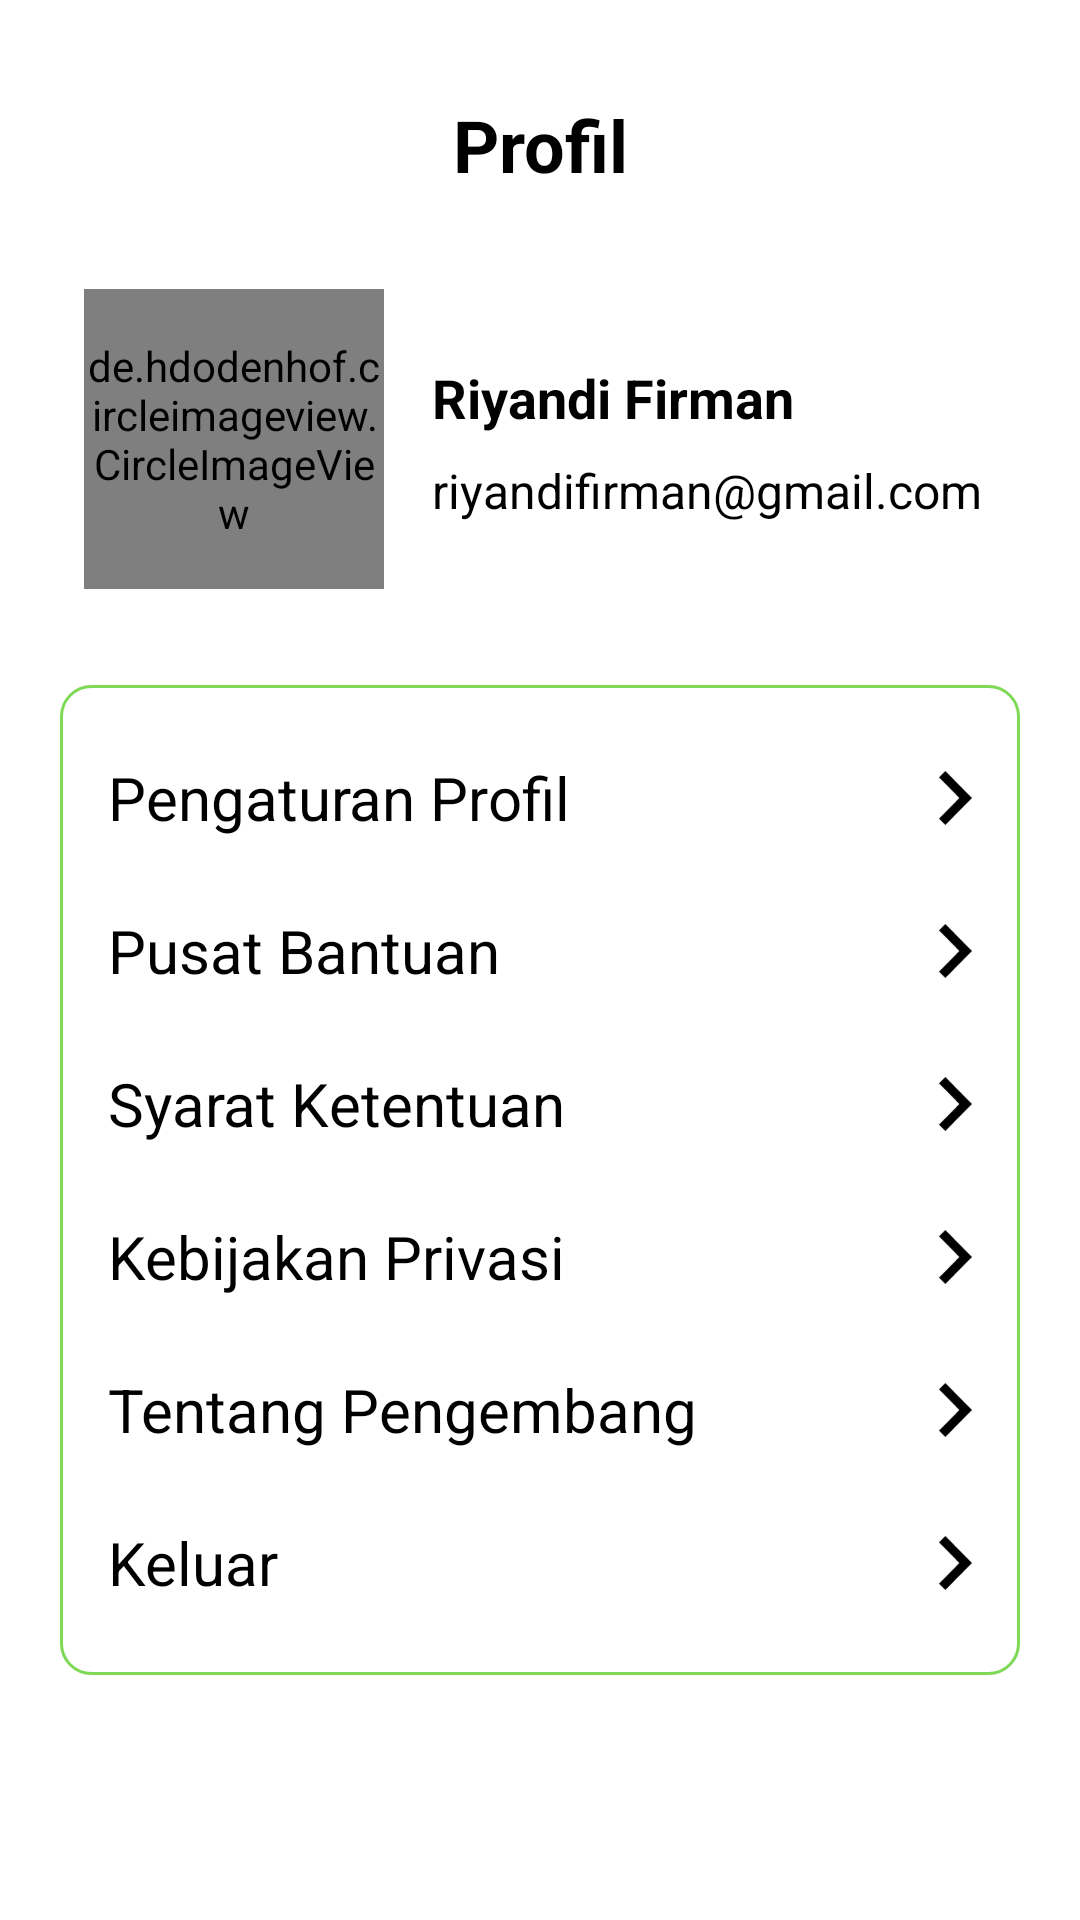

Named icons in this screenshot (1080×1920) and their bounding boxes, (x1, y1, x2, y2):
see more: (939, 771, 972, 825), (939, 924, 972, 978), (939, 1077, 972, 1131), (939, 1230, 972, 1284), (939, 1383, 972, 1437), (939, 1536, 972, 1590)
